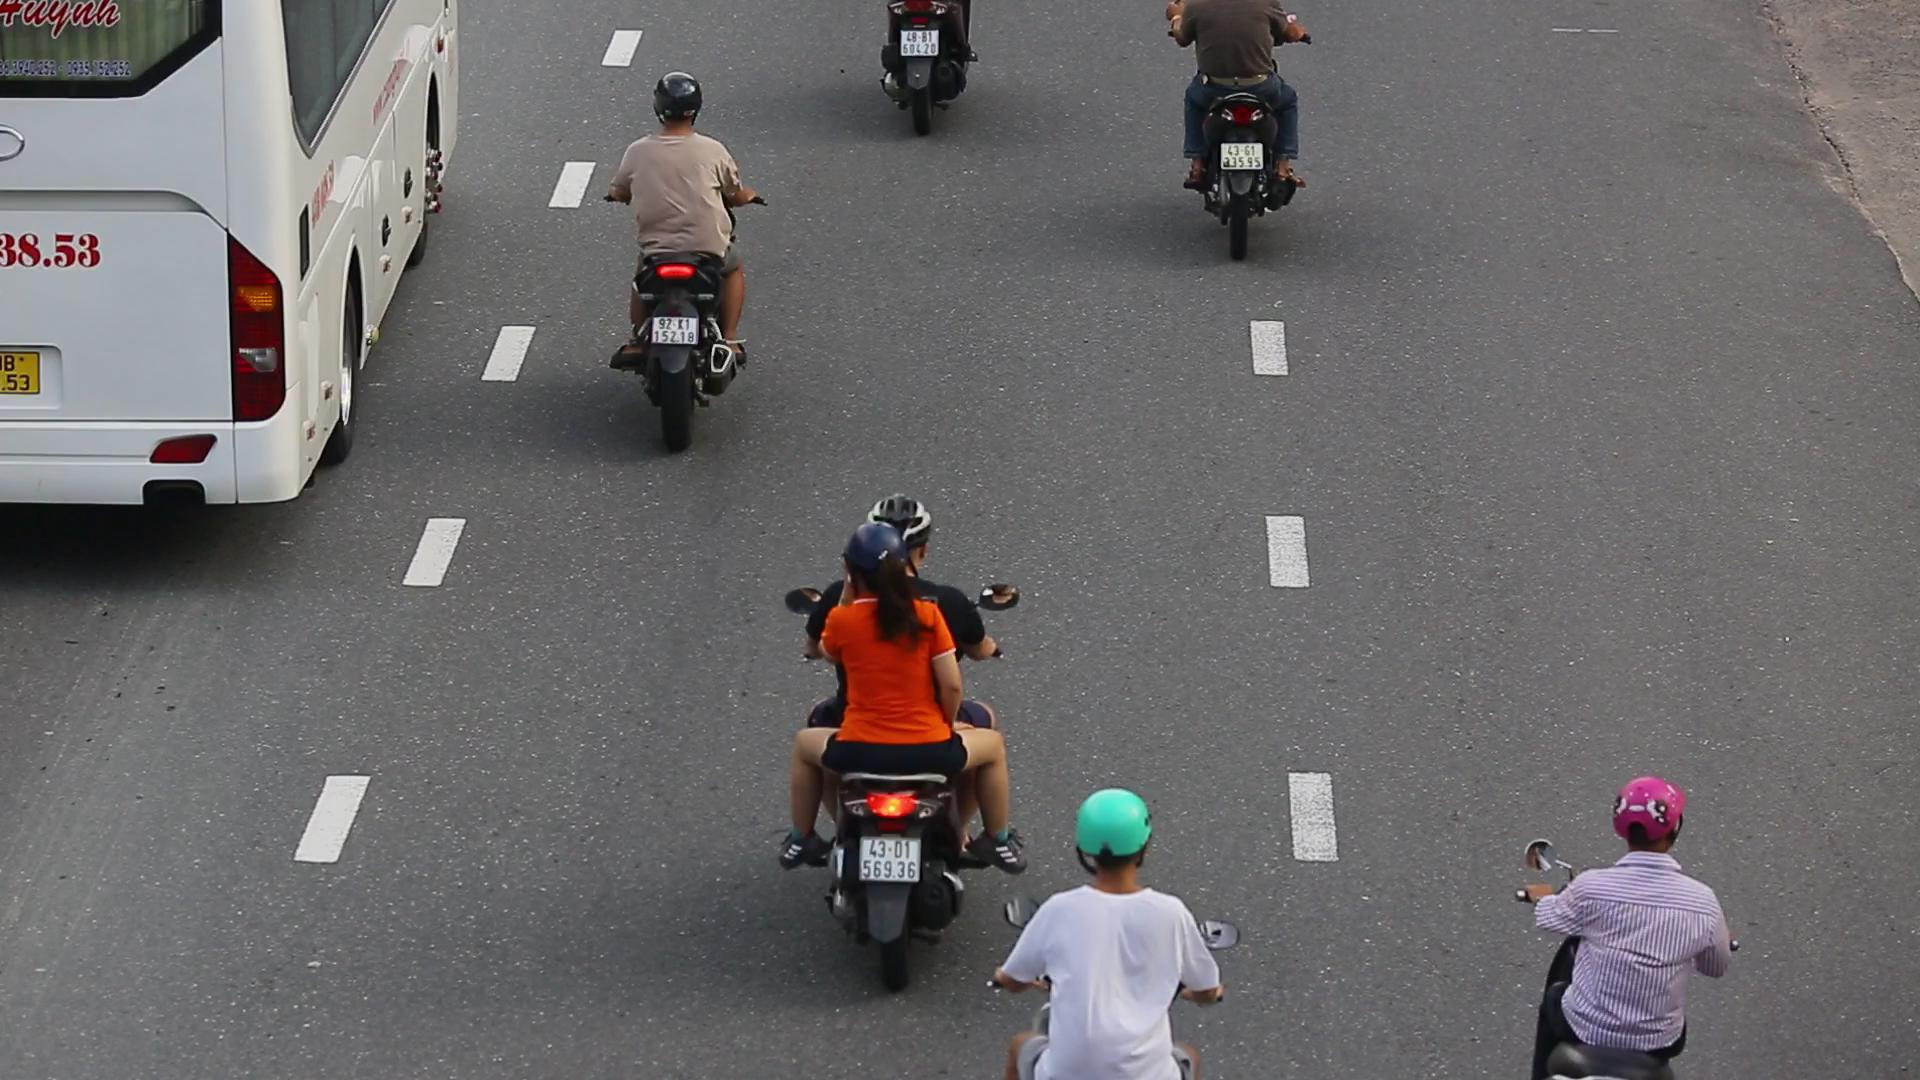motobike: (773, 485, 1017, 1000), (597, 53, 771, 455)
